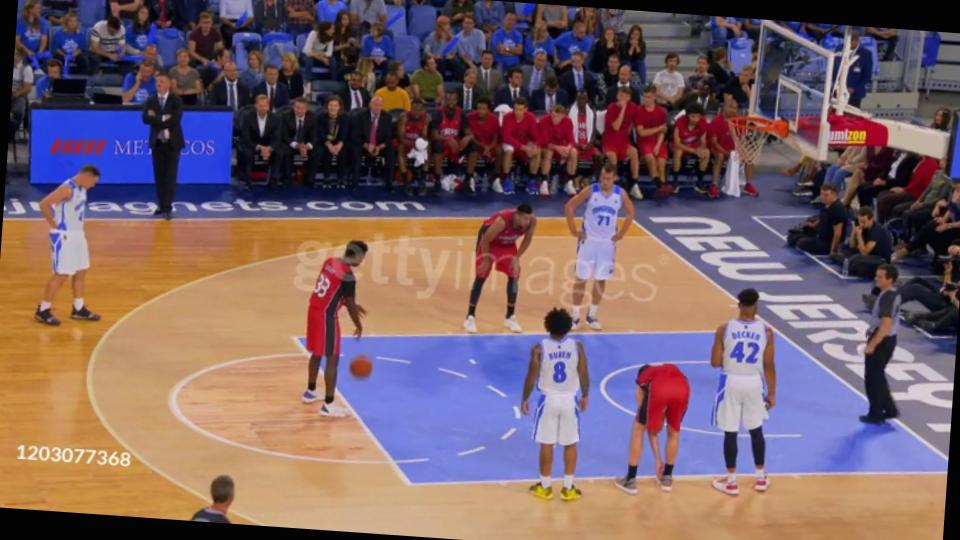hoop: (722, 112, 778, 135)
